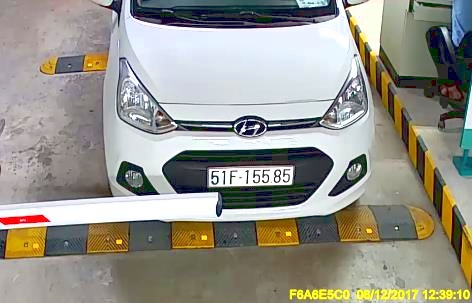plate: (205, 162, 300, 190)
